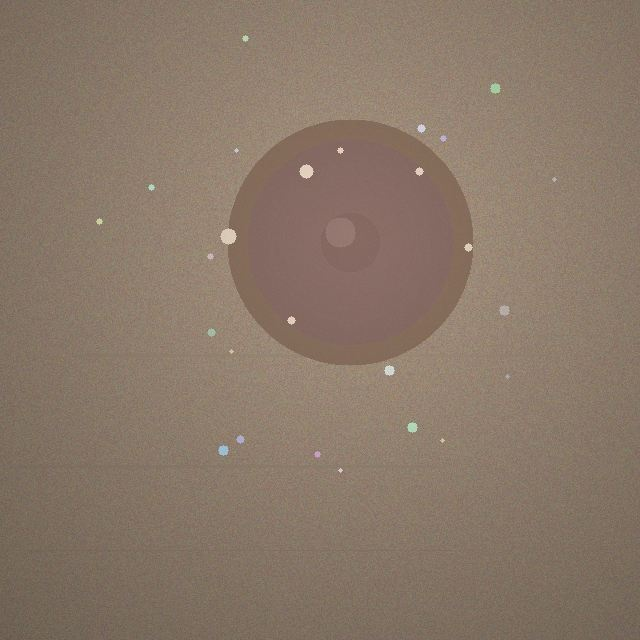overburn: (227, 119, 473, 365)
